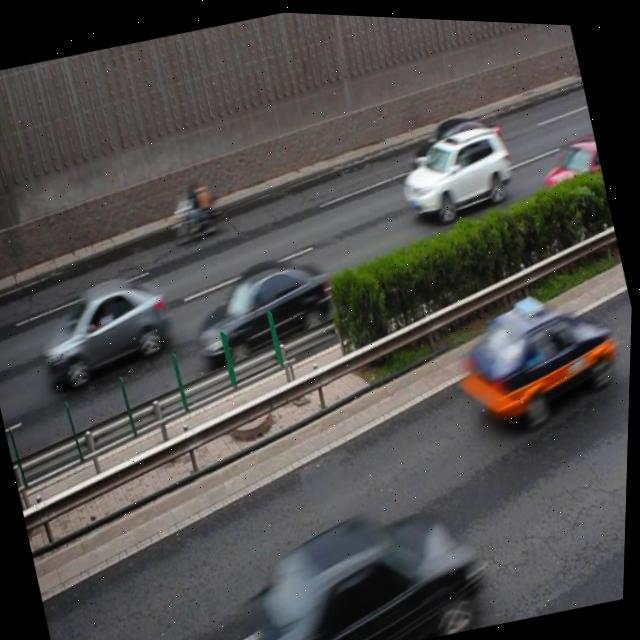car: (239, 478, 497, 640), (447, 269, 634, 439), (188, 237, 347, 368), (30, 262, 181, 397), (391, 112, 521, 225), (405, 101, 512, 185), (536, 122, 607, 194)
